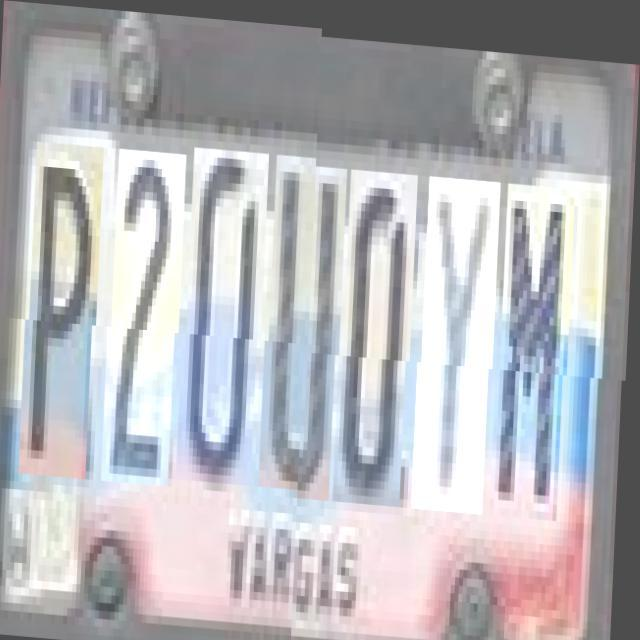0: (184, 152, 270, 489), (341, 163, 419, 500)
2: (109, 154, 187, 492)
M: (498, 174, 576, 511)
P: (26, 149, 104, 486)
U: (266, 158, 348, 494)
Y: (419, 168, 502, 506)
